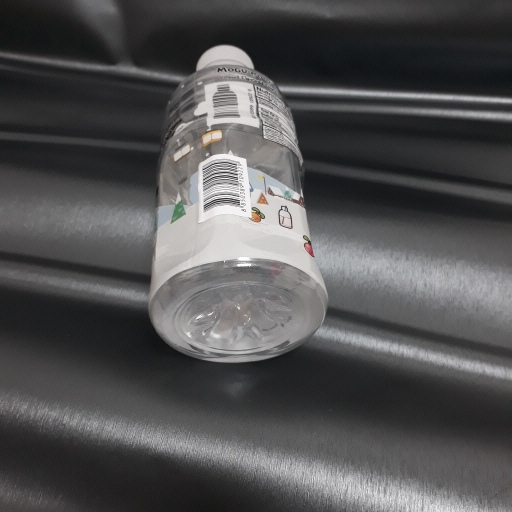Plastic_0: (148, 44, 330, 366)
